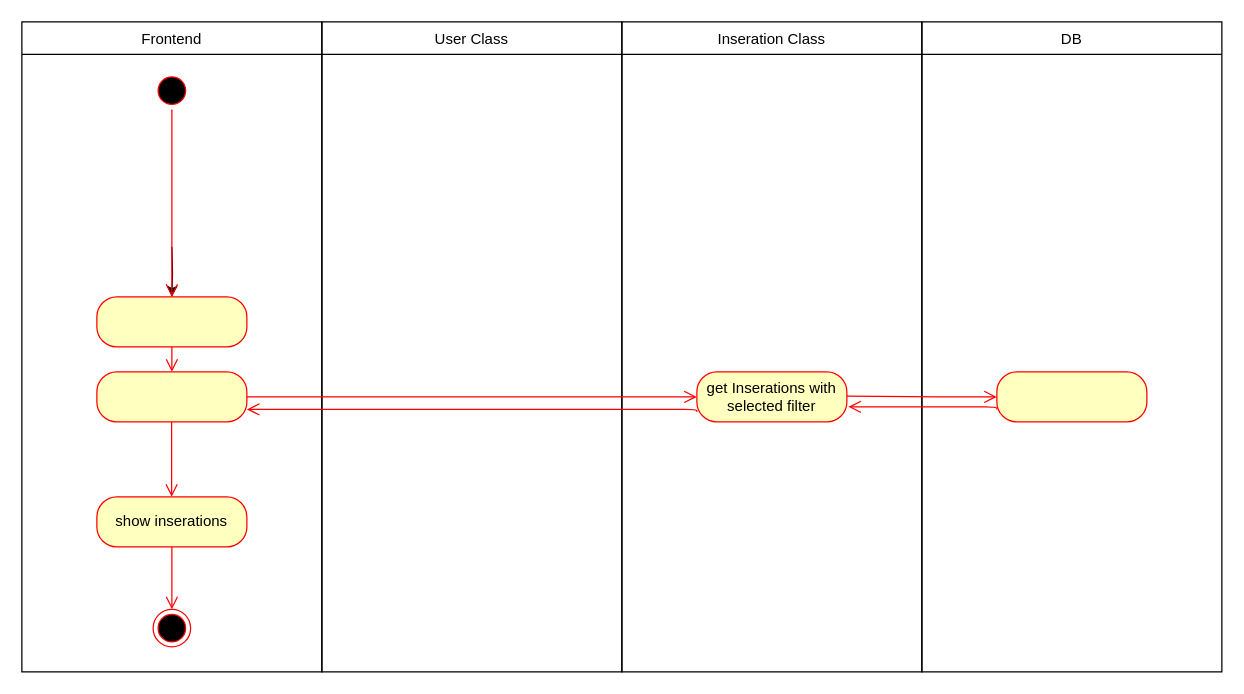
Some shapes in this 1244 by 694 pixel diagram are drawn without their labels. The shapes that lost their labels are listed below. From the top down, each one's centre as x and y in pixels, then its label:
point 171,321: navigate to shop
point 171,396: select filters
point 1071,396: return inserations match filter
